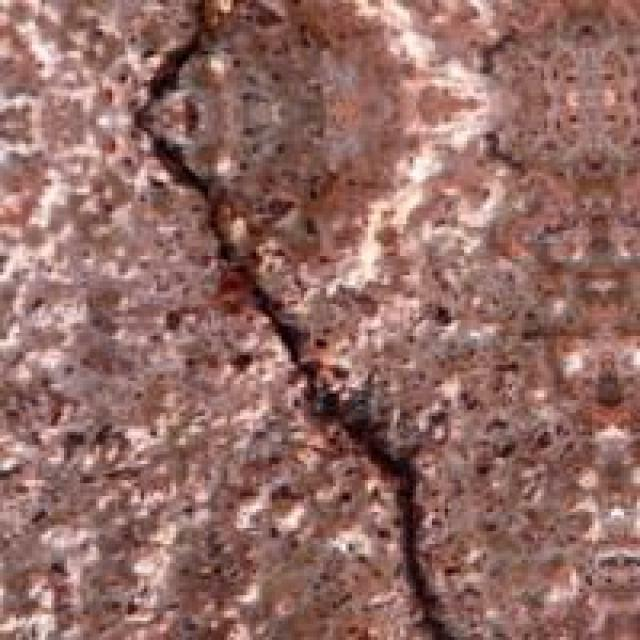crack: (98, 0, 470, 640)
